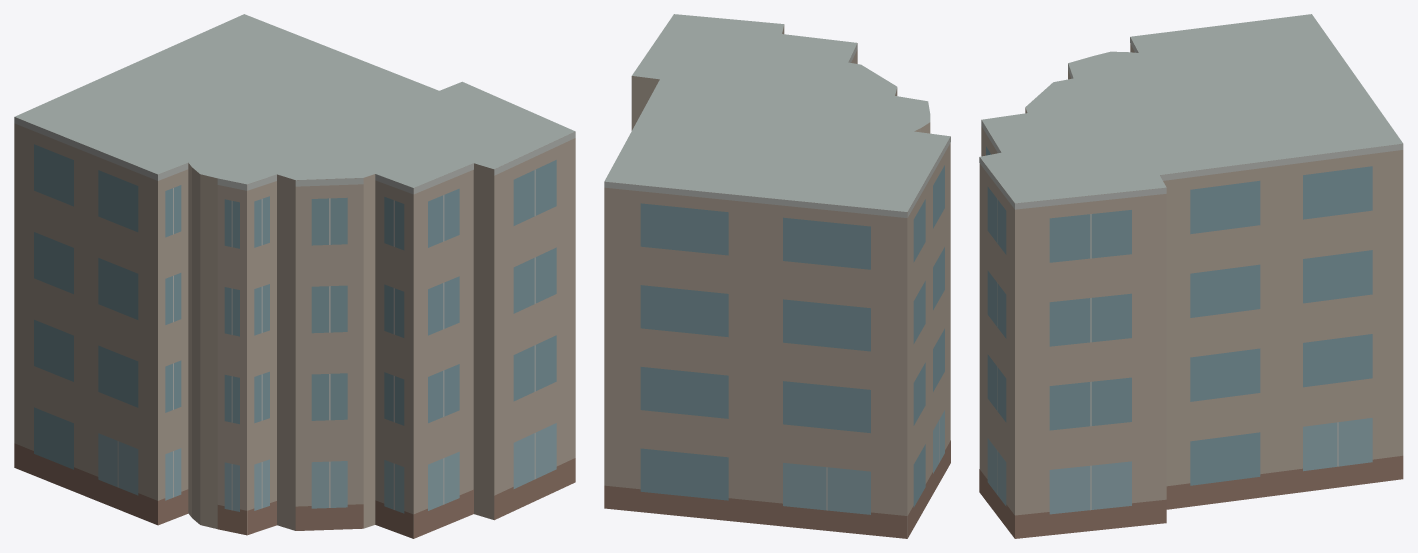
Rendered from survey-upis-32619840.glb.
3 renders of one model, left to right at view 1: azimuth 30°, elevation 25°; view 2: azimuth 150°, elevation 25°; view 3: azimuth 270°, elevation 25°, orthographic. The views are drawn at different scales.
Parts seen in each view (by area): view 1: survey-upis-32619840.tmp; view 2: survey-upis-32619840.tmp; view 3: survey-upis-32619840.tmp.
Part boxes in pixels (x1,y1,x2,y2): survey-upis-32619840.tmp: (14, 14, 575, 538); survey-upis-32619840.tmp: (604, 14, 950, 538); survey-upis-32619840.tmp: (979, 14, 1403, 538).
Bounding box in the file's own units: 15.99 × 13.2 × 15.13.
